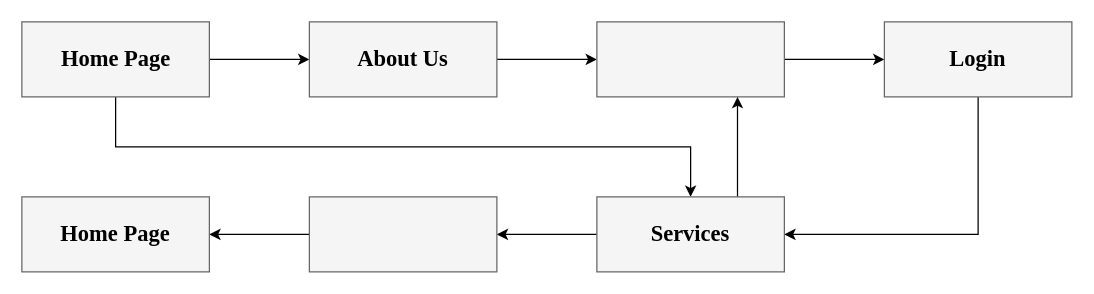
Some shapes in this 1094 by 294 pixel diagram are drawn without their labels. Here are the shapes that lost their labels. From the top down, the centre of each, then its label:
point (690, 59): Registration
point (402, 234): Contact Us
